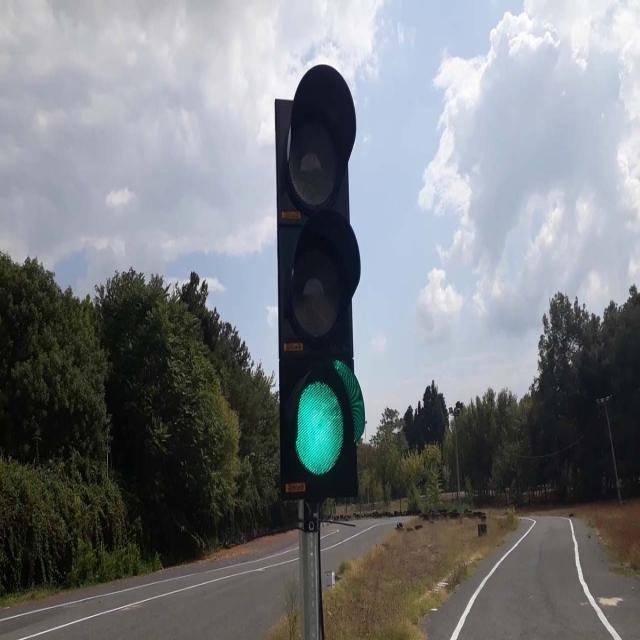yesil: (275, 68, 361, 496)
